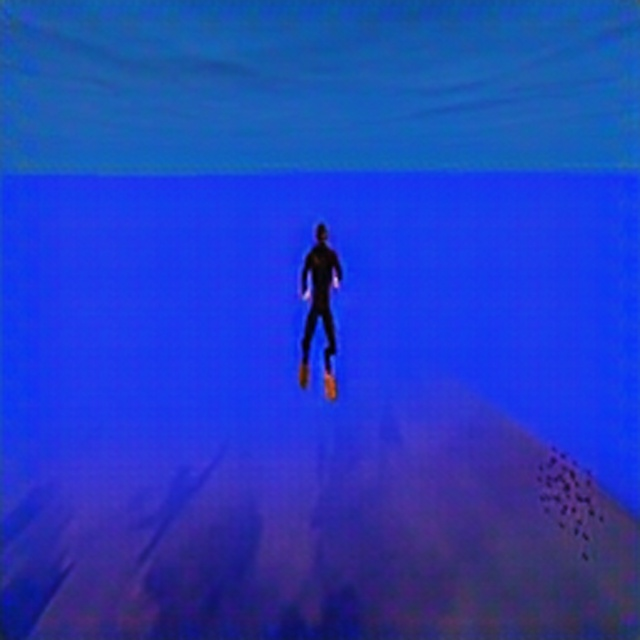diver: (294, 218, 345, 400)
